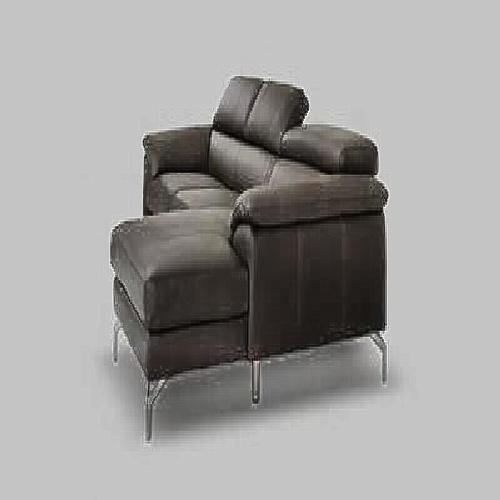sofa: (104, 71, 410, 434)
